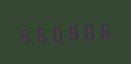five: (17, 23, 32, 46)
nine: (66, 19, 81, 42)
six: (33, 22, 48, 45), (98, 17, 113, 40)
zero: (50, 21, 65, 44), (82, 18, 97, 41)
